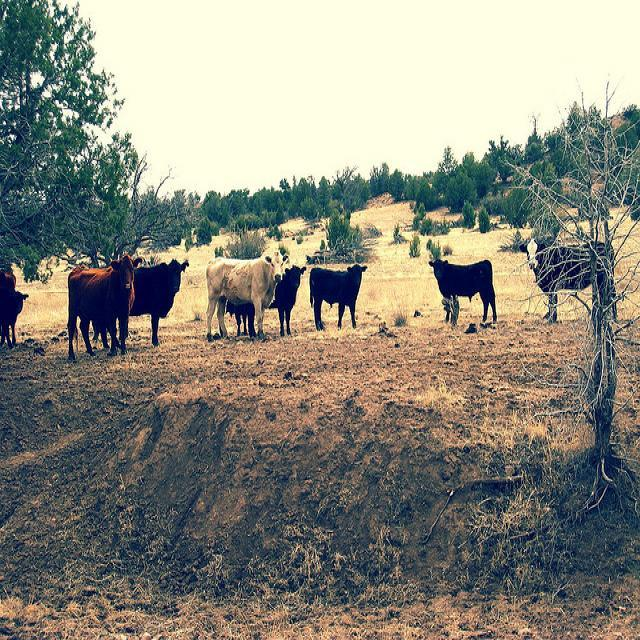cow: (514, 236, 619, 321), (66, 252, 139, 360), (99, 259, 188, 345), (204, 251, 287, 340), (427, 256, 496, 323), (308, 260, 366, 331), (264, 263, 304, 333), (0, 265, 28, 347)
